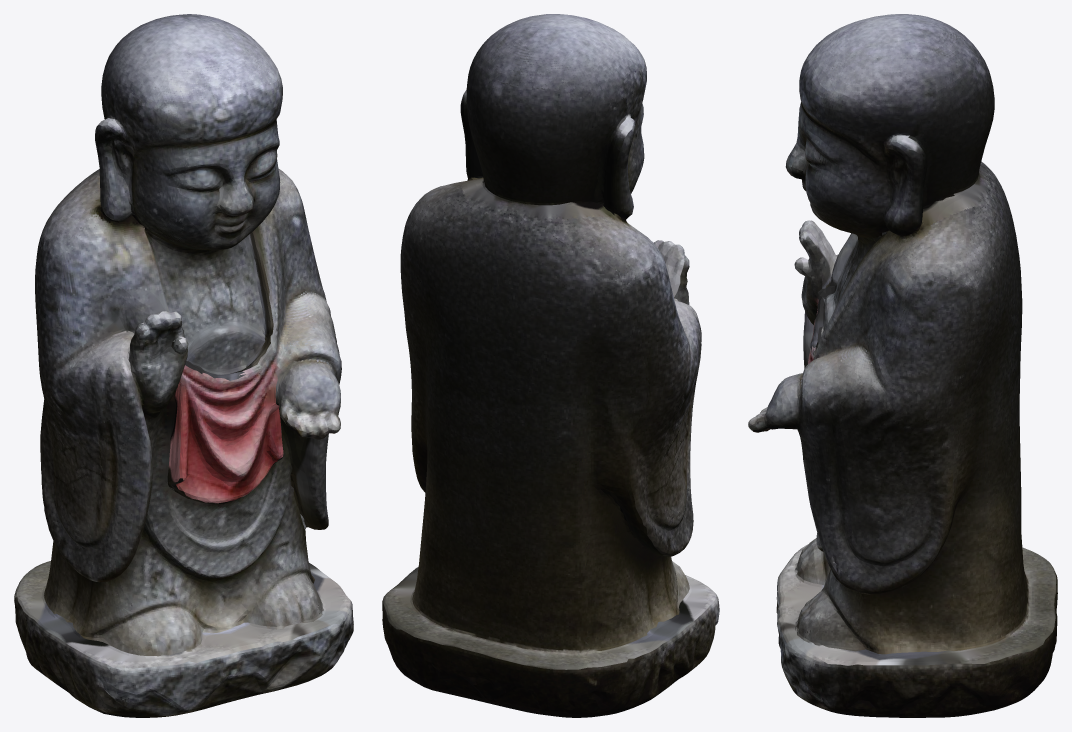
File: traveler_env_coast_kensu_field_jizo_00001_.glb
3 views of the same model, side by side, from view 1: azimuth 30°, elevation 25°; view 2: azimuth 150°, elevation 25°; view 3: azimuth 270°, elevation 25° (orthographic).
Parts seen in each view (by area): view 1: temp_mesh.ply; view 2: temp_mesh.ply; view 3: temp_mesh.ply.
Boxes of the visible parts, left/top/right/bottom form: temp_mesh.ply: left=14, top=14, right=353, bottom=717; temp_mesh.ply: left=382, top=14, right=719, bottom=717; temp_mesh.ply: left=748, top=14, right=1057, bottom=717.
Size of the model in its own units: 0.89 by 1.97 by 0.8717.
1 material, 1 textured.
